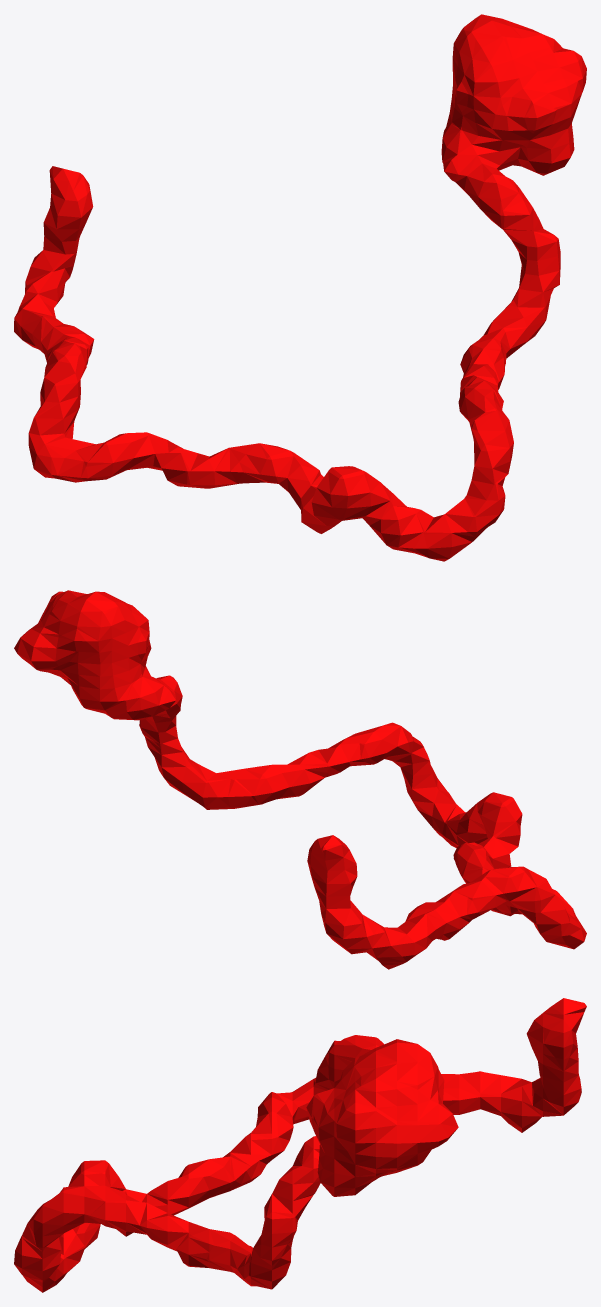
The model's file is ytfB_coarse.dae.
The picture shows the model from 3 angles, top to bottom: view 1: azimuth 30°, elevation 25°; view 2: azimuth 150°, elevation 25°; view 3: azimuth 270°, elevation 25°; orthographic projection. The views are drawn at different scales.
Parts seen in each view (by area): view 1: ytfB; view 2: ytfB; view 3: ytfB.
Part boxes in pixels (bbox=[...]): ytfB: bbox=[14, 14, 586, 561]; ytfB: bbox=[14, 590, 586, 969]; ytfB: bbox=[14, 998, 586, 1292].
Size of the model in its own units: 155 by 92.49 by 134.
